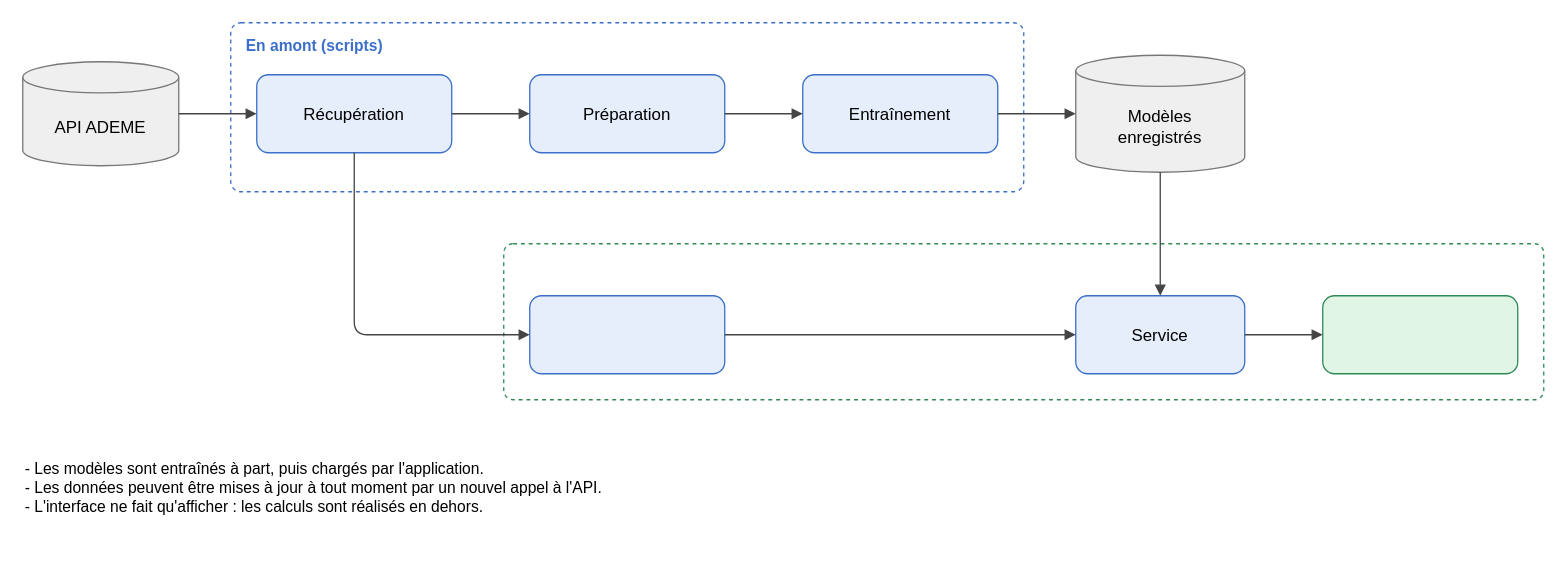
The diagram is 1567 pixels wide and 566 high, and some of its shapes have lost their labels. The shapes that lost their labels are listed below. From the top down, each one's box as (x1, y1, x2, y2) in pixels, then its label:
(528, 294, 725, 374): Statistiques
(502, 242, 1544, 400): Application
(1321, 294, 1518, 374): Interface (Streamlit)
